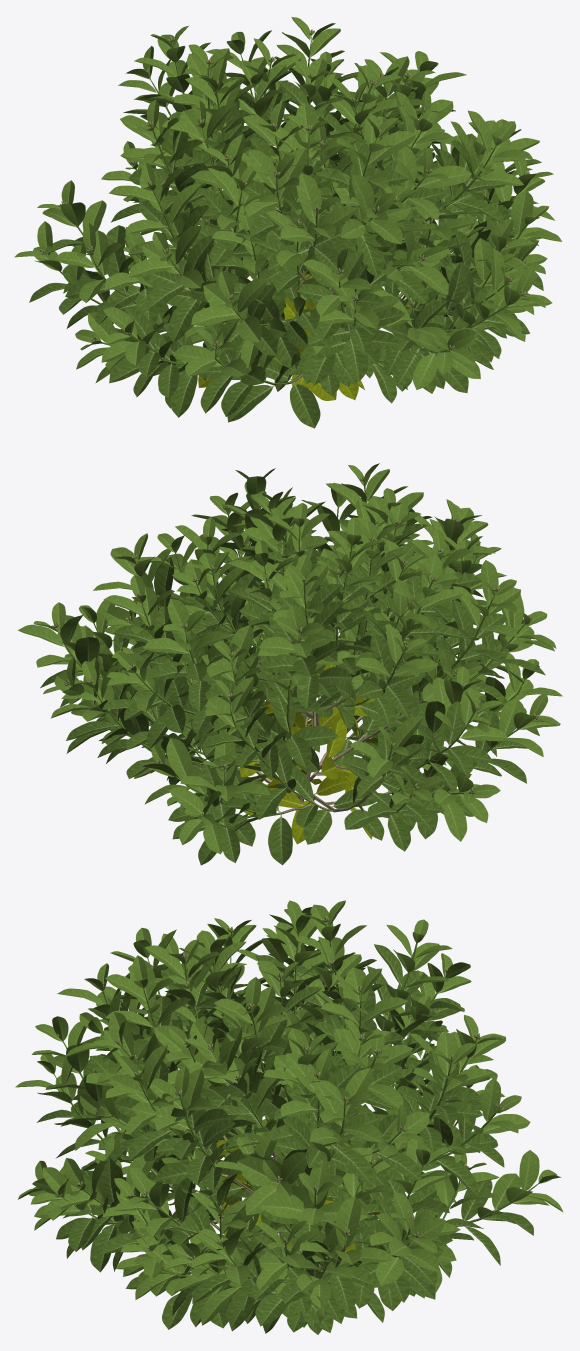
File: realistic_hd_chinese_jungle_geranium_710.glb
3 views of the same model, one above another, from view 1: azimuth 30°, elevation 25°; view 2: azimuth 150°, elevation 25°; view 3: azimuth 270°, elevation 25° (orthographic). The views are drawn at different scales.
Parts seen in each view (by area): view 1: Ixora_chinensis_red_HD_Ixora leaf 01a_0, Ixora_chinensis_red_HD_Ixora leaf 01d_0, Ixora_chinensis_red_HD_Ixora twig_0, Ixora_chinensis_red_HD_Ixora bud_0, Ixora_chinensis_red_HD_Ixora leaf 01e_0, Ixora_chinensis_red_HD_Ixora branches_0; view 2: Ixora_chinensis_red_HD_Ixora leaf 01a_0, Ixora_chinensis_red_HD_Ixora leaf 01d_0, Ixora_chinensis_red_HD_Ixora leaf 01e_0, Ixora_chinensis_red_HD_Ixora twig_0, Ixora_chinensis_red_HD_Ixora branches_0, Ixora_chinensis_red_HD_Ixora bud_0; view 3: Ixora_chinensis_red_HD_Ixora leaf 01a_0, Ixora_chinensis_red_HD_Ixora leaf 01d_0, Ixora_chinensis_red_HD_Ixora twig_0, Ixora_chinensis_red_HD_Ixora bud_0, Ixora_chinensis_red_HD_Ixora branches_0, Ixora_chinensis_red_HD_Ixora leaf 01e_0, Ixora_chinensis_red_HD_Ixora leaf 01b_0.
Boxes of the visible parts, x1=… form: Ixora_chinensis_red_HD_Ixora leaf 01a_0: x1=14, y1=17, x2=562, y2=389; Ixora_chinensis_red_HD_Ixora leaf 01d_0: x1=29, y1=56, x2=543, y2=428; Ixora_chinensis_red_HD_Ixora twig_0: x1=45, y1=36, x2=526, y2=375; Ixora_chinensis_red_HD_Ixora bud_0: x1=39, y1=29, x2=532, y2=352; Ixora_chinensis_red_HD_Ixora leaf 01e_0: x1=198, y1=269, x2=411, y2=400; Ixora_chinensis_red_HD_Ixora branches_0: x1=130, y1=146, x2=457, y2=385; Ixora_chinensis_red_HD_Ixora leaf 01a_0: x1=18, y1=463, x2=562, y2=854; Ixora_chinensis_red_HD_Ixora leaf 01d_0: x1=40, y1=508, x2=545, y2=865; Ixora_chinensis_red_HD_Ixora leaf 01e_0: x1=186, y1=664, x2=377, y2=844; Ixora_chinensis_red_HD_Ixora twig_0: x1=57, y1=482, x2=534, y2=827; Ixora_chinensis_red_HD_Ixora branches_0: x1=141, y1=603, x2=459, y2=823; Ixora_chinensis_red_HD_Ixora bud_0: x1=52, y1=476, x2=539, y2=816; Ixora_chinensis_red_HD_Ixora leaf 01a_0: x1=15, y1=900, x2=563, y2=1325; Ixora_chinensis_red_HD_Ixora leaf 01d_0: x1=36, y1=944, x2=533, y2=1334; Ixora_chinensis_red_HD_Ixora twig_0: x1=54, y1=922, x2=539, y2=1294; Ixora_chinensis_red_HD_Ixora bud_0: x1=52, y1=916, x2=547, y2=1271; Ixora_chinensis_red_HD_Ixora branches_0: x1=115, y1=1018, x2=457, y2=1290; Ixora_chinensis_red_HD_Ixora leaf 01e_0: x1=202, y1=1117, x2=380, y2=1320; Ixora_chinensis_red_HD_Ixora leaf 01b_0: x1=492, y1=1173, x2=520, y2=1211.
Size of the model in its own units: 1.28 by 0.8317 by 1.18.
7 materials, 7 textured.
